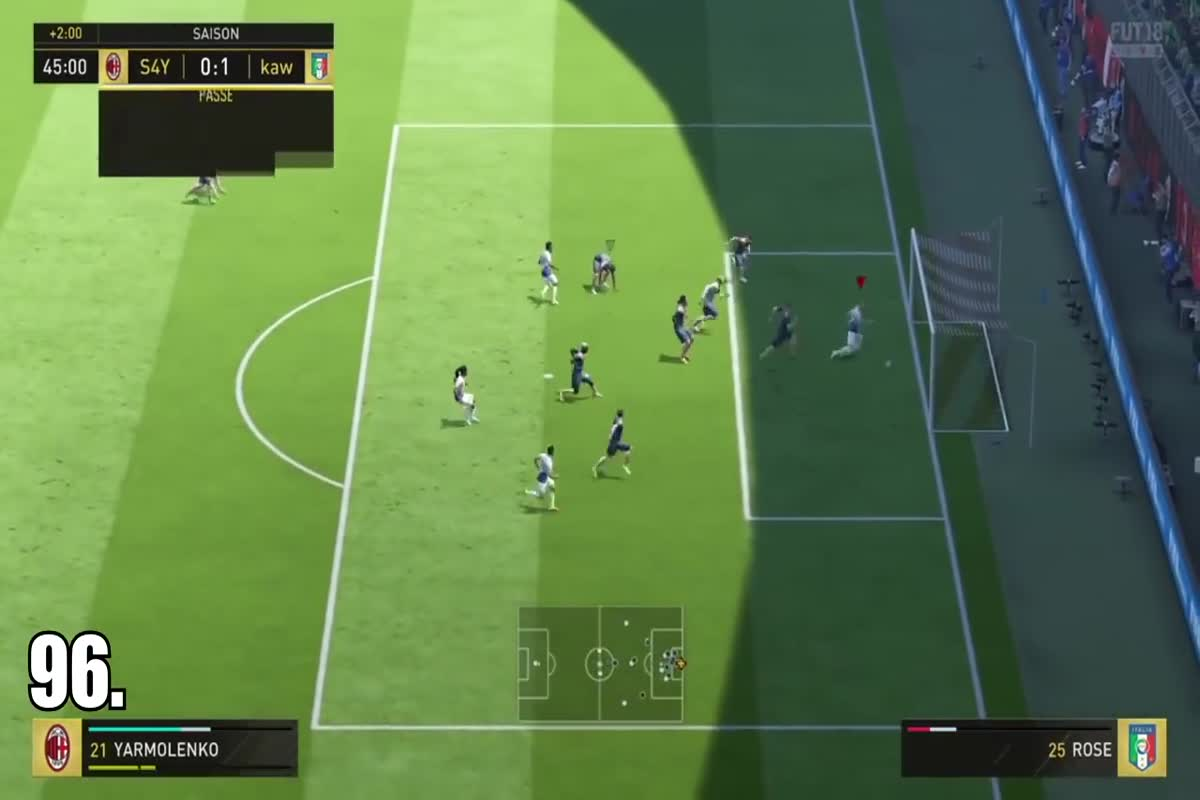ball: (878, 355, 903, 376)
